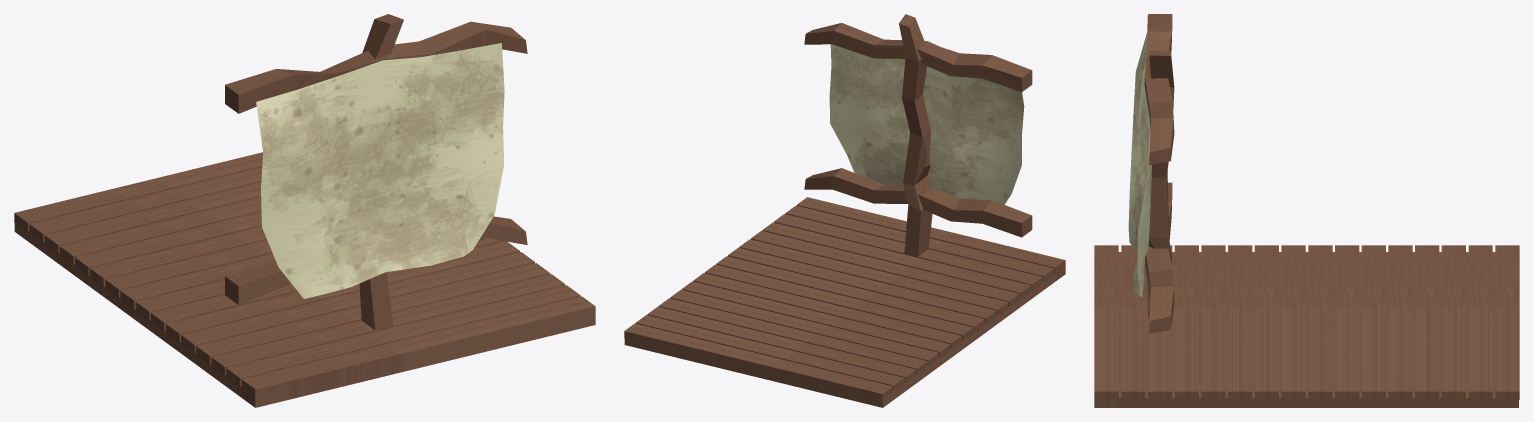
File: jangada.fbx
The picture shows the model from 3 angles, left to right: view 1: azimuth 30°, elevation 25°; view 2: azimuth 150°, elevation 25°; view 3: azimuth 270°, elevation 25°; orthographic projection. The views are drawn at different scales.
Parts seen in each view (by area): view 1: Plane, Plane.003, Plane.002; view 2: Plane, Plane.003, Plane.002; view 3: Plane, Plane.002, Plane.003.
Part boxes in pixels (<box>): Plane: <box>14,152,595,407</box>; Plane.003: <box>256,43,504,298</box>; Plane.002: <box>225,14,527,330</box>; Plane: <box>624,197,1065,407</box>; Plane.003: <box>829,40,1024,204</box>; Plane.002: <box>804,14,1032,256</box>; Plane: <box>1094,245,1519,407</box>; Plane.002: <box>1144,14,1174,333</box>; Plane.003: <box>1128,32,1151,297</box>.
Bounding box in the file's own units: 453 × 409 × 556.
